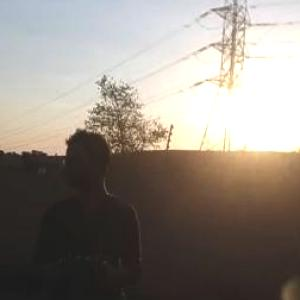follow: (30, 122, 146, 298)
